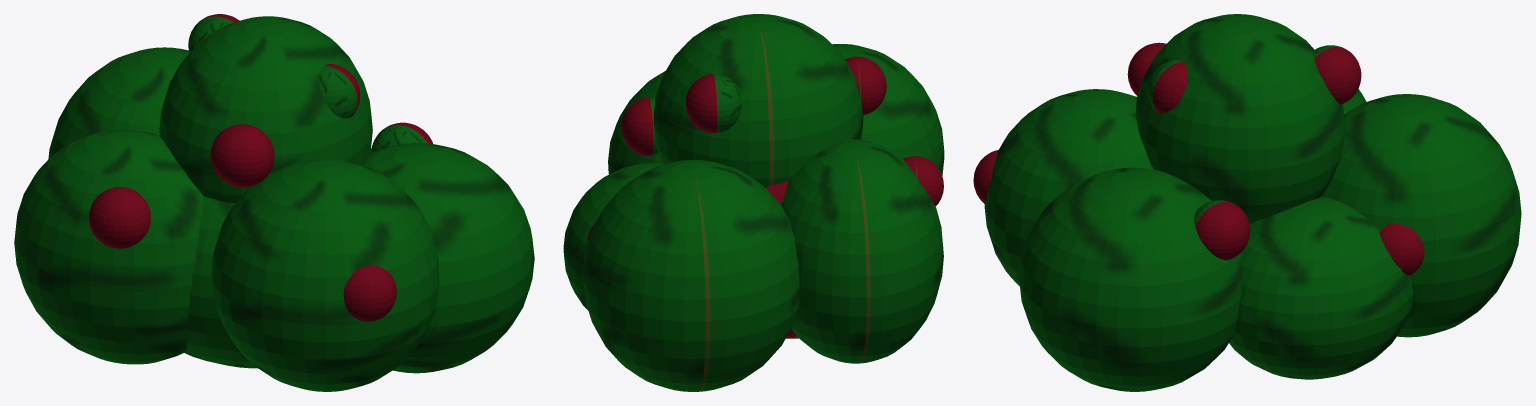
File: ObjectBush1.dae
3 renders of one model, left to right at view 1: azimuth 30°, elevation 25°; view 2: azimuth 150°, elevation 25°; view 3: azimuth 270°, elevation 25°, orthographic. The views are drawn at different scales.
Visible parts, largest first — view 1: Sphere.002, Sphere.003, Sphere.006, Sphere.004, Sphere.001, Sphere, Sphere.010, Sphere.011, Sphere.012, Sphere.007, Sphere.009, Sphere.008; view 2: Sphere.001, Sphere.003, Sphere.006, Sphere.002, Sphere.005, Sphere.008, Sphere.009, Sphere.004, Sphere.010, Sphere.011, Sphere; view 3: Sphere.004, Sphere.006, Sphere.001, Sphere.005, Sphere.002, Sphere.009, Sphere.008, Sphere.007, Sphere.013, Sphere.010, Sphere.012.
Part boxes in pixels (x1,y1,x2,y2): Sphere.002: [211, 158, 439, 391]; Sphere.003: [14, 129, 202, 364]; Sphere.006: [159, 16, 372, 203]; Sphere.004: [363, 143, 534, 373]; Sphere.001: [48, 47, 189, 158]; Sphere: [184, 196, 257, 368]; Sphere.010: [210, 124, 274, 187]; Sphere.011: [88, 187, 150, 248]; Sphere.012: [343, 265, 396, 321]; Sphere.007: [319, 64, 360, 118]; Sphere.009: [371, 122, 432, 151]; Sphere.008: [188, 14, 239, 52]; Sphere.001: [583, 160, 799, 391]; Sphere.003: [781, 139, 943, 363]; Sphere.006: [653, 14, 863, 187]; Sphere.002: [832, 44, 944, 175]; Sphere.005: [563, 163, 663, 310]; Sphere.008: [685, 74, 741, 133]; Sphere.009: [621, 97, 658, 156]; Sphere.004: [608, 71, 665, 174]; Sphere.010: [845, 56, 886, 115]; Sphere.011: [903, 156, 943, 206]; Sphere: [765, 181, 798, 338]; Sphere.004: [1019, 167, 1242, 391]; Sphere.006: [1135, 14, 1345, 224]; Sphere.001: [1321, 94, 1521, 337]; Sphere.005: [1229, 197, 1413, 379]; Sphere.002: [984, 89, 1153, 286]; Sphere.009: [1194, 200, 1250, 260]; Sphere.008: [1313, 45, 1361, 104]; Sphere.007: [1147, 59, 1187, 113]; Sphere.013: [1378, 224, 1424, 275]; Sphere.010: [1127, 42, 1166, 95]; Sphere.012: [973, 150, 998, 203].
Size of the model in its own units: 3.28 by 3.9 by 2.44.
2 materials, 2 textured.
